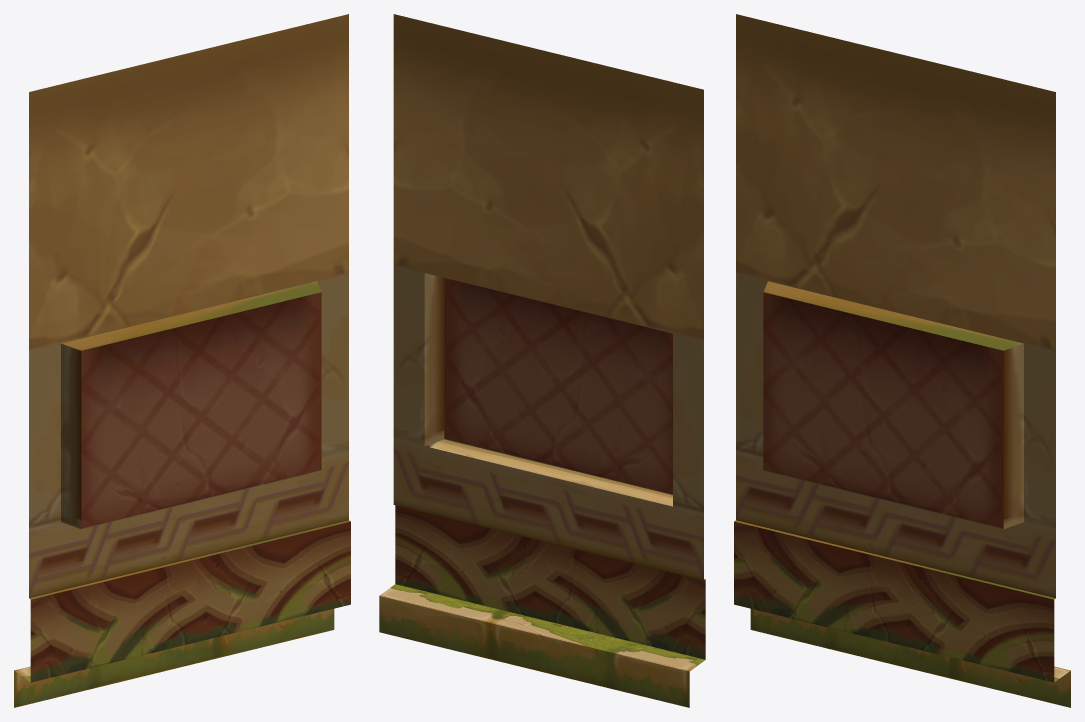
File: Remains_wall_01.fbx
3 renders of one model, left to right at view 1: azimuth 30°, elevation 25°; view 2: azimuth 150°, elevation 25°; view 3: azimuth 330°, elevation 25°, orthographic. The views are drawn at different scales.
Visible parts, largest first — view 1: Remains_wall_01; view 2: Remains_wall_01; view 3: Remains_wall_01.
Part boxes in pixels (x1,y1,x2,y2): Remains_wall_01: (14, 14, 350, 707); Remains_wall_01: (379, 14, 705, 707); Remains_wall_01: (734, 14, 1070, 707).
Size of the model in its own units: 273 by 511 by 40.32.
